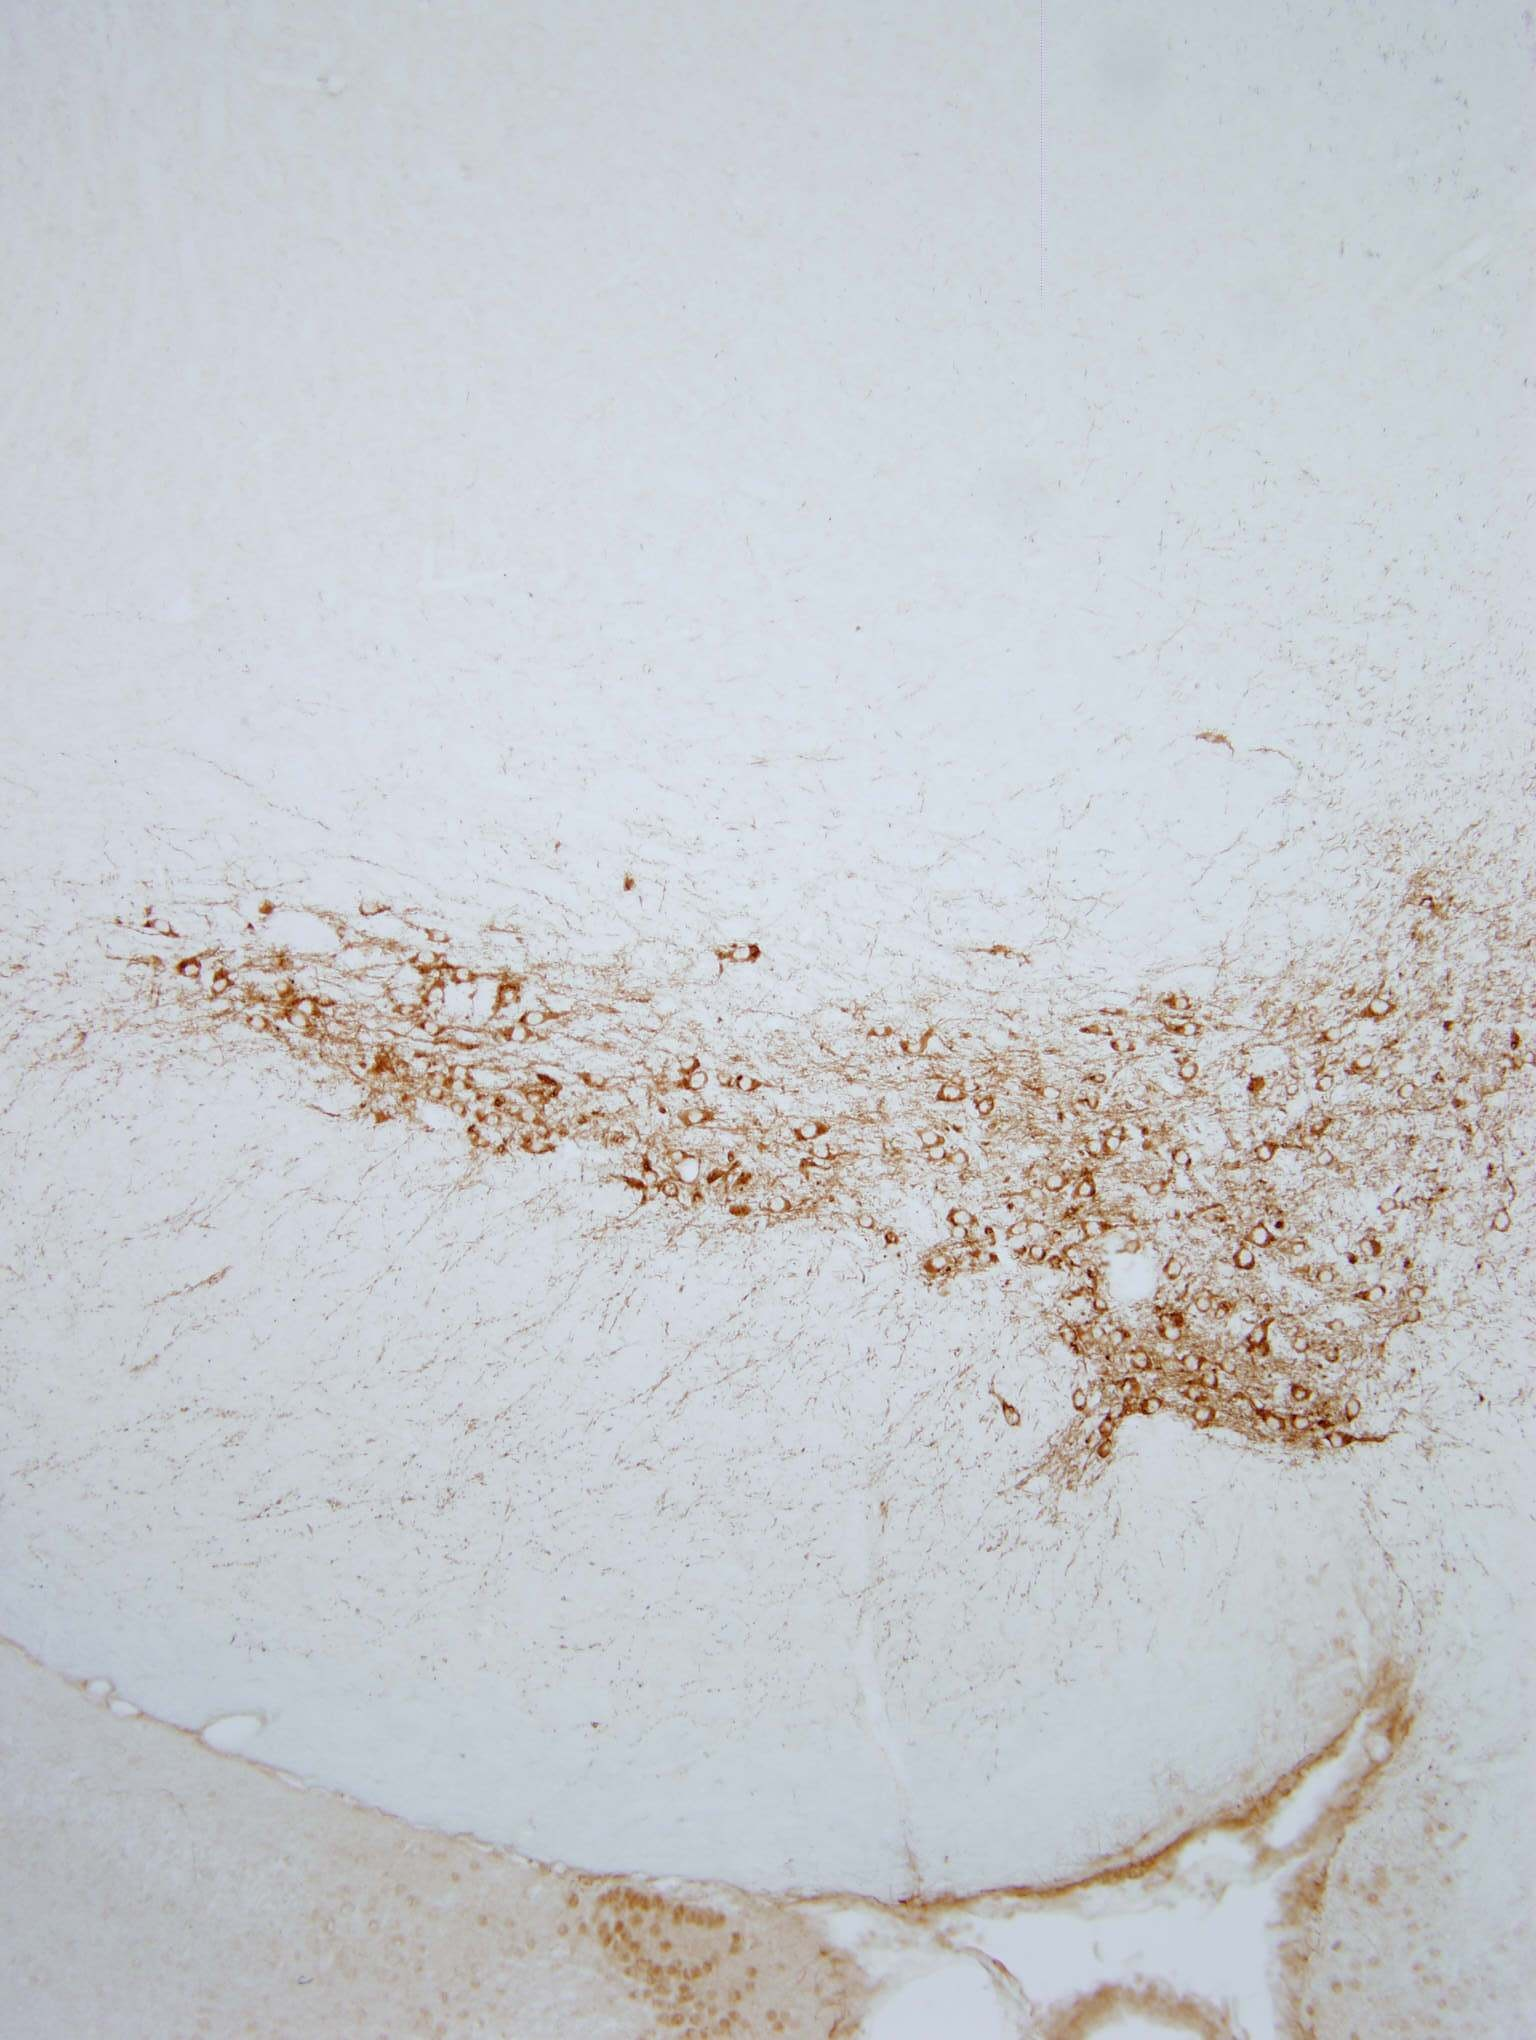neuron: (720, 927, 768, 976), (1236, 1313, 1284, 1359), (1105, 1027, 1142, 1064), (144, 910, 181, 947), (490, 976, 528, 1013), (733, 1064, 770, 1101), (762, 1189, 799, 1226), (899, 1027, 936, 1064), (1016, 1177, 1054, 1213), (1033, 1076, 1070, 1111), (1076, 1213, 1112, 1250), (1115, 1230, 1150, 1268), (1173, 1055, 1208, 1092), (1246, 1216, 1283, 1251), (1254, 1401, 1291, 1437), (1355, 1277, 1391, 1314), (1484, 1205, 1521, 1240), (173, 948, 208, 985), (294, 989, 331, 1024), (353, 892, 390, 927), (418, 976, 453, 1013), (523, 1127, 558, 1164), (578, 1063, 615, 1098), (679, 1098, 716, 1134), (792, 1113, 829, 1148), (913, 1116, 950, 1151), (936, 1076, 971, 1113), (945, 1197, 983, 1232), (970, 1089, 1007, 1124), (994, 1397, 1029, 1434), (1081, 1013, 1117, 1048), (1338, 1390, 1373, 1426), (1362, 992, 1397, 1027), (449, 956, 484, 992), (520, 1000, 555, 1035), (807, 1139, 842, 1174), (970, 1242, 1005, 1277), (1008, 1218, 1033, 1242), (1028, 1243, 1052, 1268), (1046, 1171, 1070, 1195), (1057, 1322, 1081, 1347), (1076, 1177, 1100, 1201), (1089, 1293, 1113, 1318), (1096, 1438, 1120, 1463), (1096, 1418, 1120, 1442), (1104, 1134, 1128, 1158), (1105, 1118, 1129, 1142), (1108, 1324, 1133, 1348), (1117, 1376, 1141, 1400), (1141, 1397, 1165, 1421), (1142, 1176, 1167, 1200), (1163, 1201, 1187, 1226), (1163, 1258, 1187, 1282), (1170, 1147, 1194, 1171), (1171, 990, 1196, 1014), (1181, 1019, 1205, 1043), (1183, 1353, 1207, 1377), (1192, 1293, 1217, 1318), (1192, 1405, 1217, 1429), (1200, 1369, 1225, 1393), (1218, 1355, 1242, 1379), (1234, 1248, 1258, 1272), (1281, 1077, 1305, 1101), (1289, 1237, 1313, 1261), (1289, 1382, 1313, 1406), (1291, 1411, 1315, 1435), (1292, 1334, 1317, 1358), (1313, 1072, 1338, 1097), (1315, 1264, 1339, 1289), (1323, 1022, 1347, 1047), (1323, 1343, 1347, 1368), (1326, 1313, 1350, 1337), (1338, 982, 1362, 1006), (1354, 1051, 1378, 1076), (1360, 1239, 1384, 1263), (1404, 1306, 1428, 1330), (1407, 1280, 1431, 1305), (210, 974, 234, 998), (245, 1011, 269, 1035), (273, 976, 297, 1000), (287, 1010, 311, 1034), (395, 995, 419, 1019), (421, 1016, 445, 1040), (424, 1064, 449, 1089), (424, 1080, 449, 1105), (428, 924, 452, 948), (449, 1060, 473, 1084), (449, 1095, 473, 1119), (450, 1077, 474, 1101), (482, 1108, 507, 1132), (508, 1022, 532, 1047), (518, 1105, 542, 1129), (524, 1085, 549, 1110), (658, 1180, 682, 1205), (666, 1145, 691, 1169), (679, 1053, 703, 1077), (687, 1071, 712, 1095), (868, 1019, 892, 1043), (926, 1253, 950, 1277), (949, 1145, 973, 1169), (1070, 1388, 1092, 1413), (1083, 1092, 1107, 1114), (1084, 1321, 1108, 1343), (1091, 1068, 1113, 1092), (1129, 1350, 1154, 1372), (1255, 1142, 1279, 1164), (1326, 1429, 1350, 1451), (1396, 1080, 1418, 1105), (416, 947, 440, 969), (857, 1209, 879, 1234), (928, 1145, 950, 1169), (1183, 1384, 1205, 1406)
